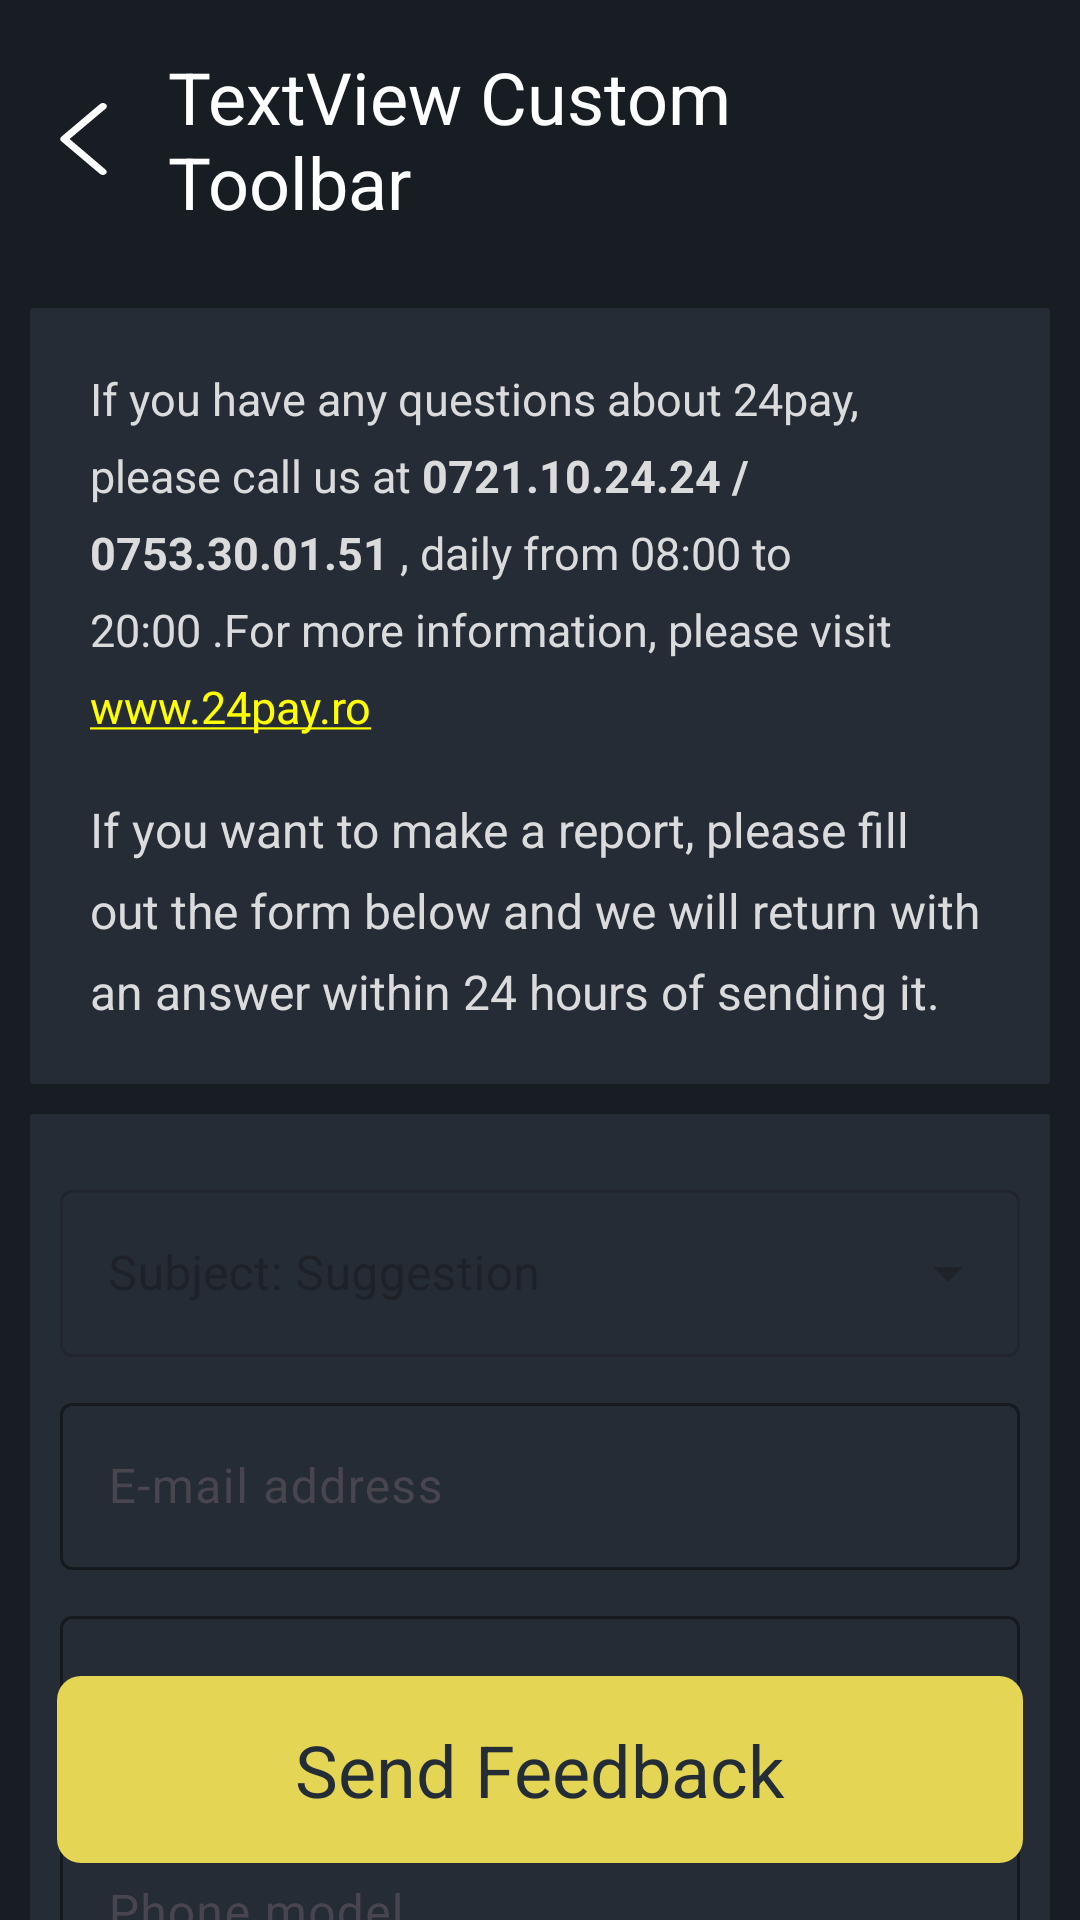

Locate icon controls on the screen. Image size 1080px×1920px, boxes as {"x1": x1, "y1": y1, "x2": x2, "y2": y2}.
left: {"x1": 60, "y1": 103, "x2": 107, "y2": 175}
